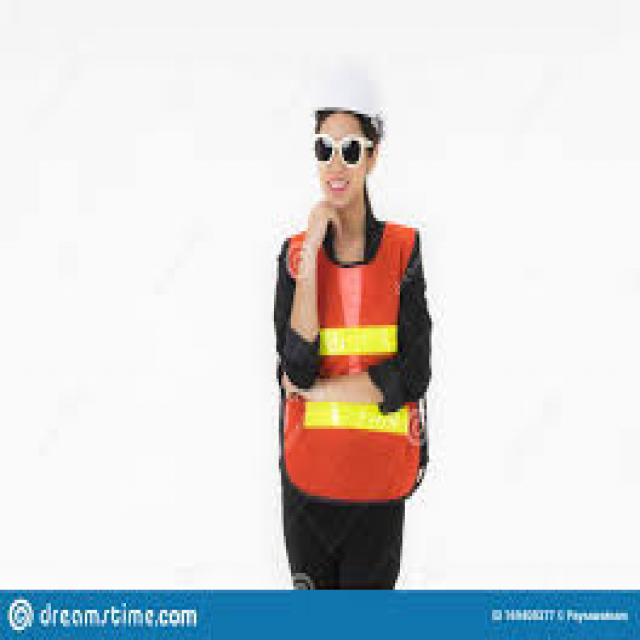Reflective-Jacket: (276, 218, 427, 499)
Safety-Helmet: (298, 47, 395, 134)
